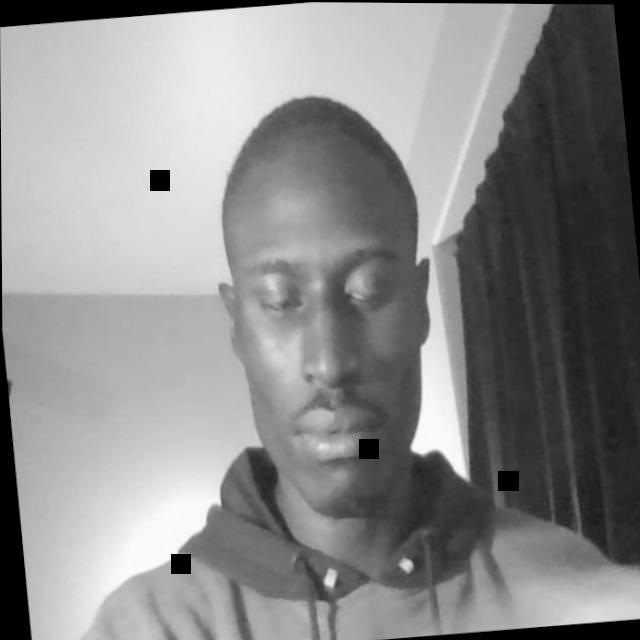NO-Mask: (224, 174, 444, 526)
